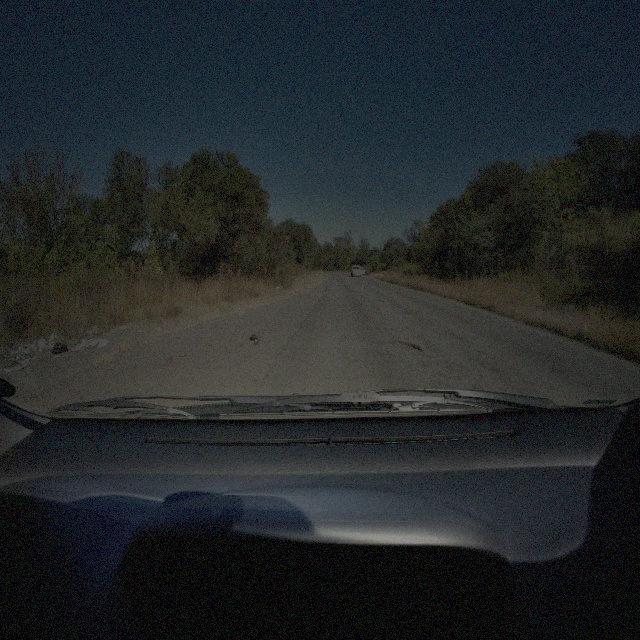pothole: (388, 338, 420, 352), (370, 296, 384, 304)
